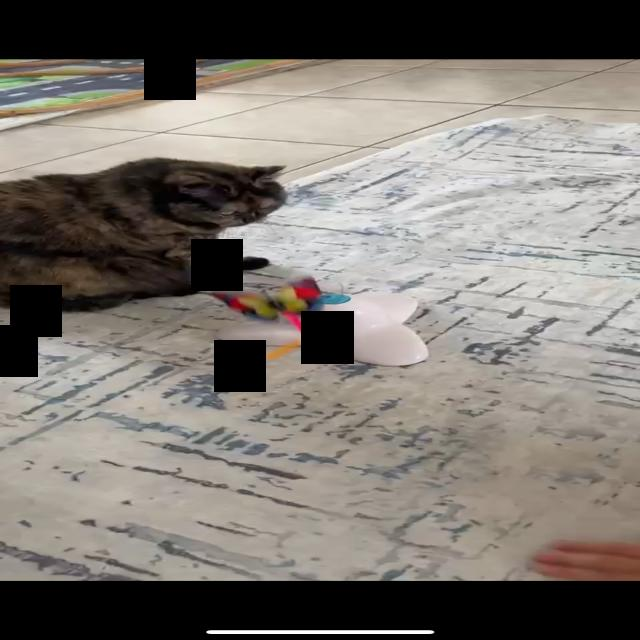authorized: (1, 156, 288, 312)
